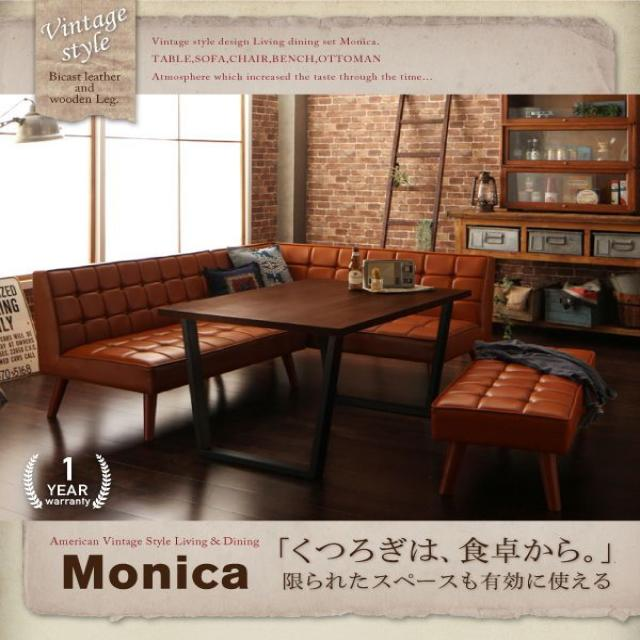vintage desk: (158, 273, 442, 480)
vintage shelf: (453, 97, 634, 263)
